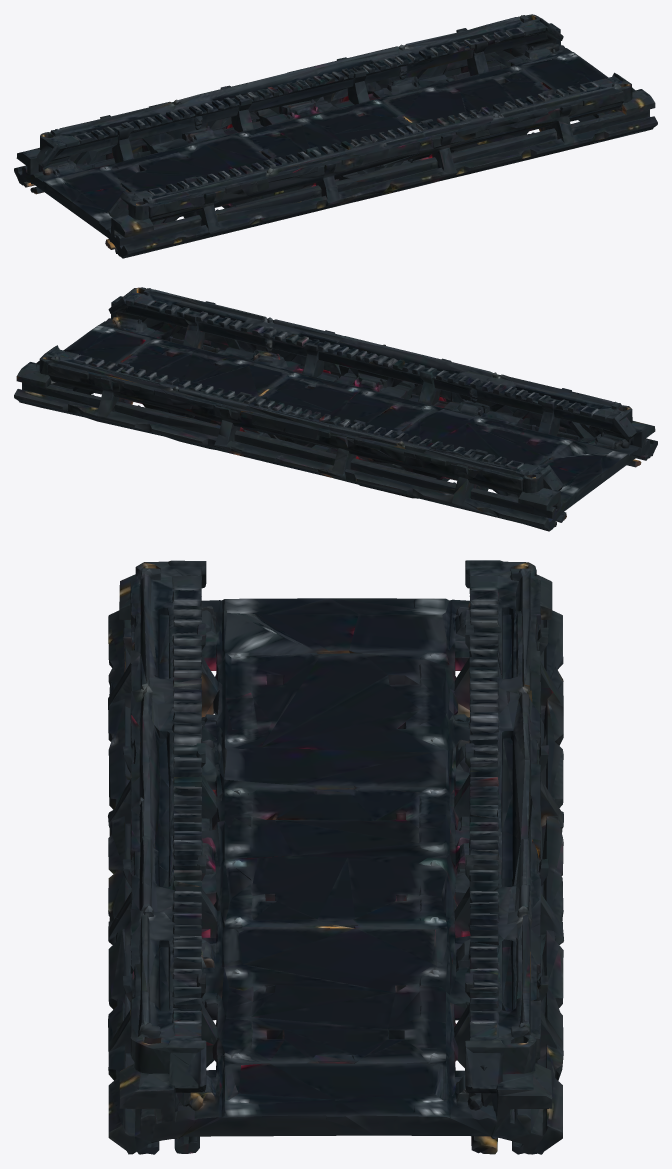
The model's file is mx_tr_scifi_catwalk.glb.
3 views of the same model, one above another, from view 1: azimuth 30°, elevation 25°; view 2: azimuth 150°, elevation 25°; view 3: azimuth 270°, elevation 25° (orthographic). The views are drawn at different scales.
Bounding box in the file's own units: 1.9 × 0.174 × 0.7084.
Materials: 1 (1 with a texture image).
